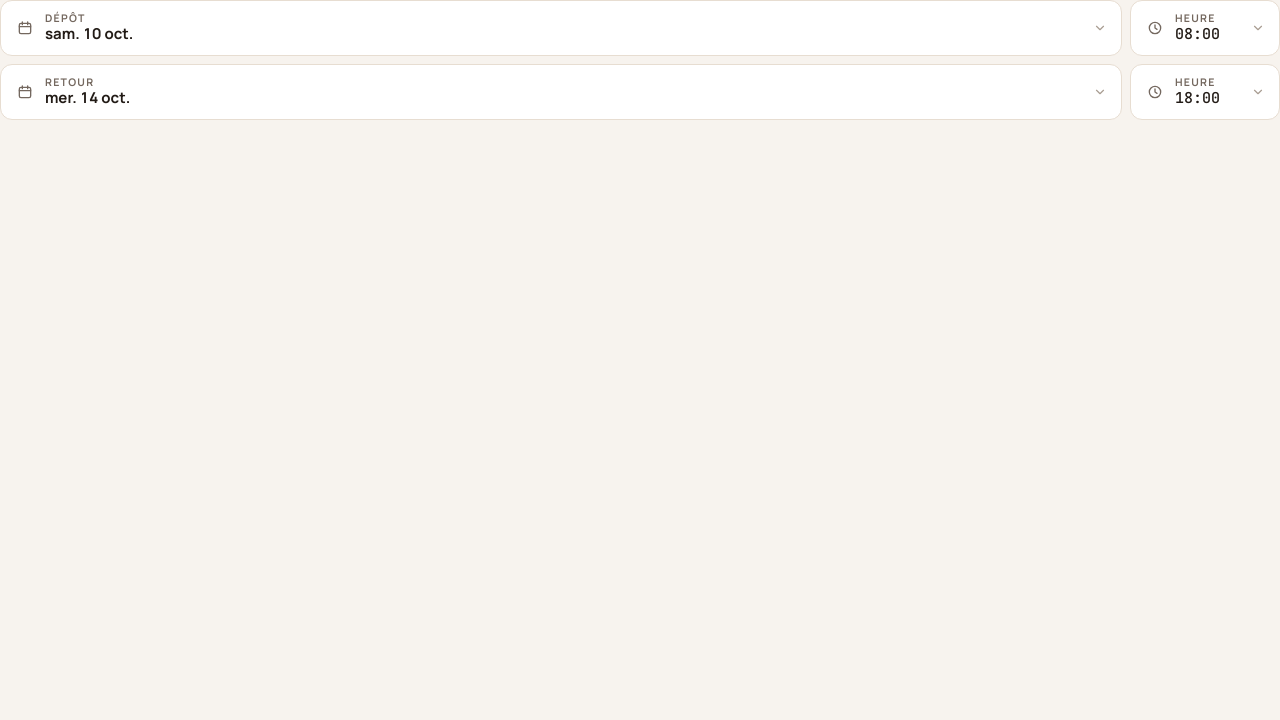
StayFields › disables Valider until both dates are chosen, Effacer clears them
Click the button with aria-label "Date de dépôt" at (65, 18), box left=0, top=0, right=1122, bottom=56
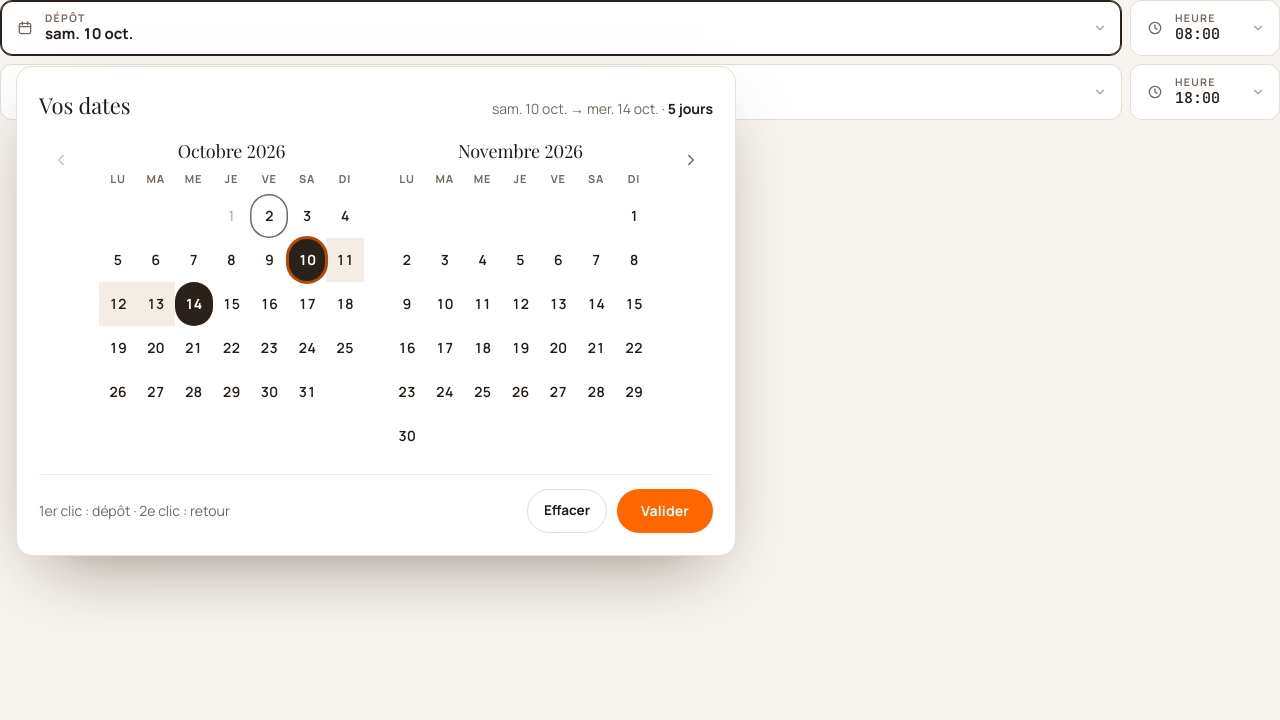
Click the button "Effacer" at (567, 510), box left=527, top=488, right=607, bottom=532
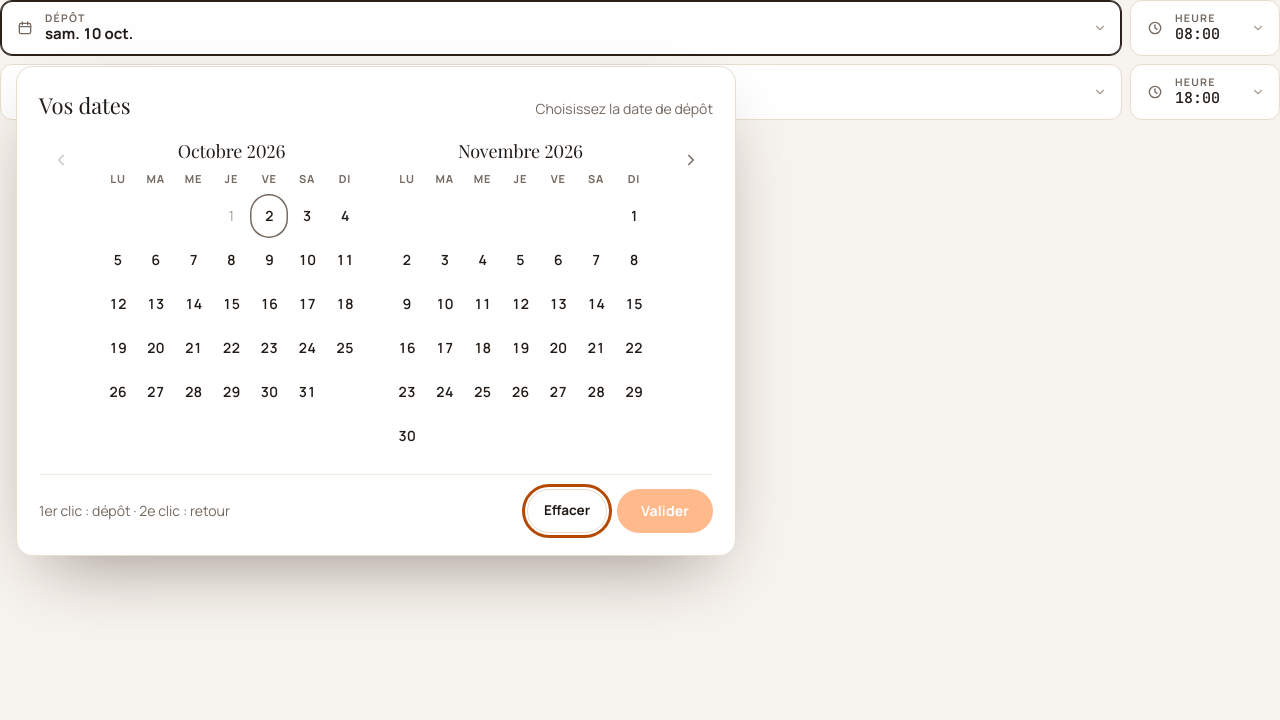
Expected: the button "Valider" is disabled, left=617, top=488, right=713, bottom=532
Expected: the text "Choisissez la date de dépôt" is shown, left=535, top=99, right=713, bottom=118
